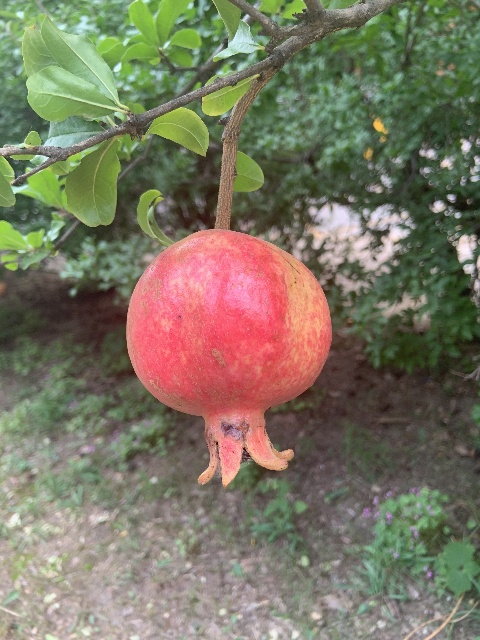ripe: (126, 229, 330, 490)
